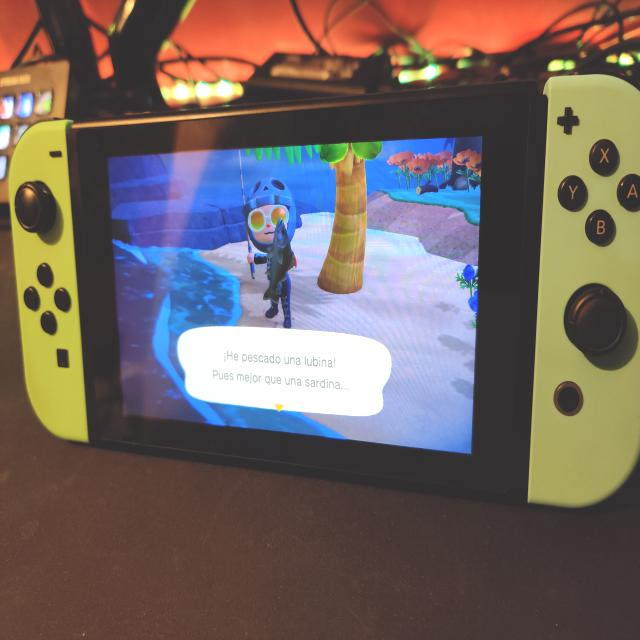text_bubble: (178, 324, 394, 419)
